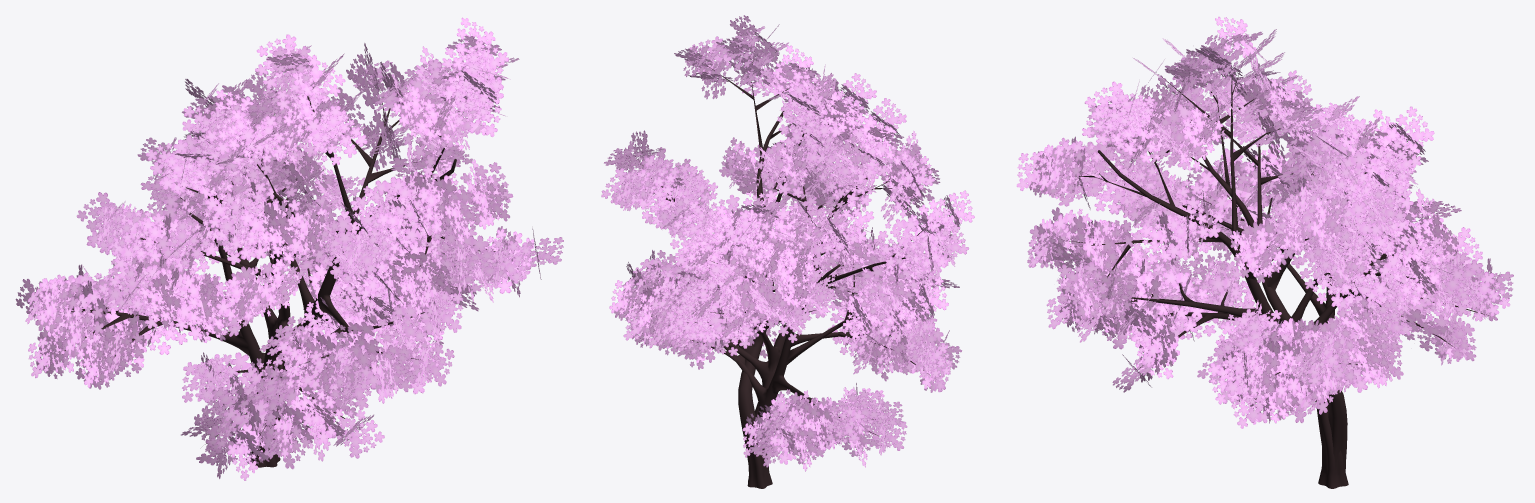
Rendered from StylizedTree.glb.
The picture shows the model from 3 angles, left to right: view 1: azimuth 30°, elevation 25°; view 2: azimuth 150°, elevation 25°; view 3: azimuth 270°, elevation 25°; orthographic projection. The views are drawn at different scales.
Visible parts, largest first — view 1: StylizedTree; view 2: StylizedTree; view 3: StylizedTree.
Part boxes in pixels (x1,y1,x2,y2): StylizedTree: (15, 17, 563, 480); StylizedTree: (601, 15, 974, 488); StylizedTree: (1016, 16, 1513, 488).
Bounding box in the file's own units: 399 × 436 × 438.
2 materials, 1 textured.
